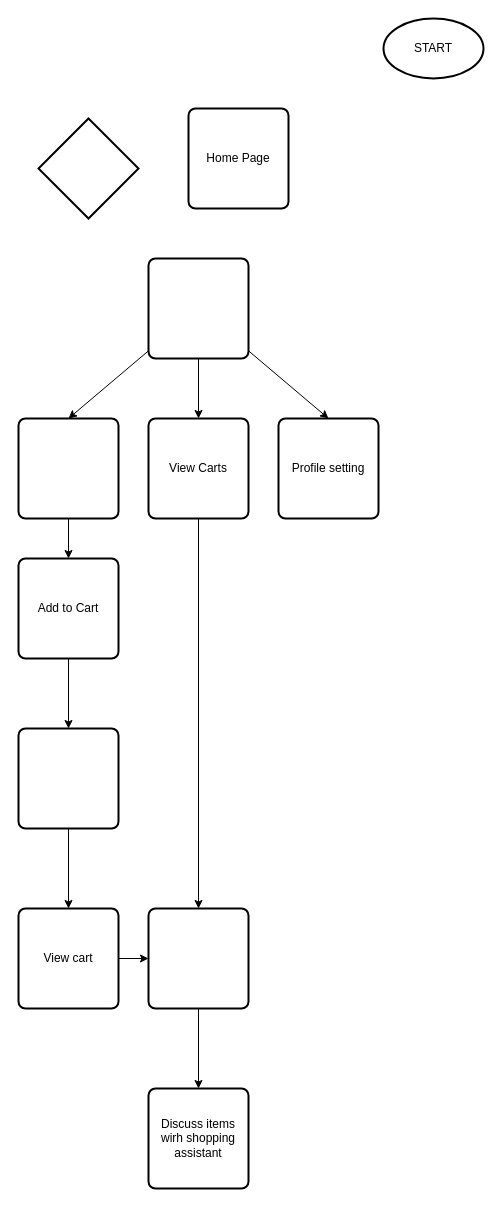
This 501x1206 diagram has some shape labels left out. Here are the shapes that lost their labels. From the top down, the centre of each, then its label:
point (198, 308): User Dashboard
point (68, 468): Browse Products
point (68, 778): Update Cart
point (198, 958): Select shopping assistant
